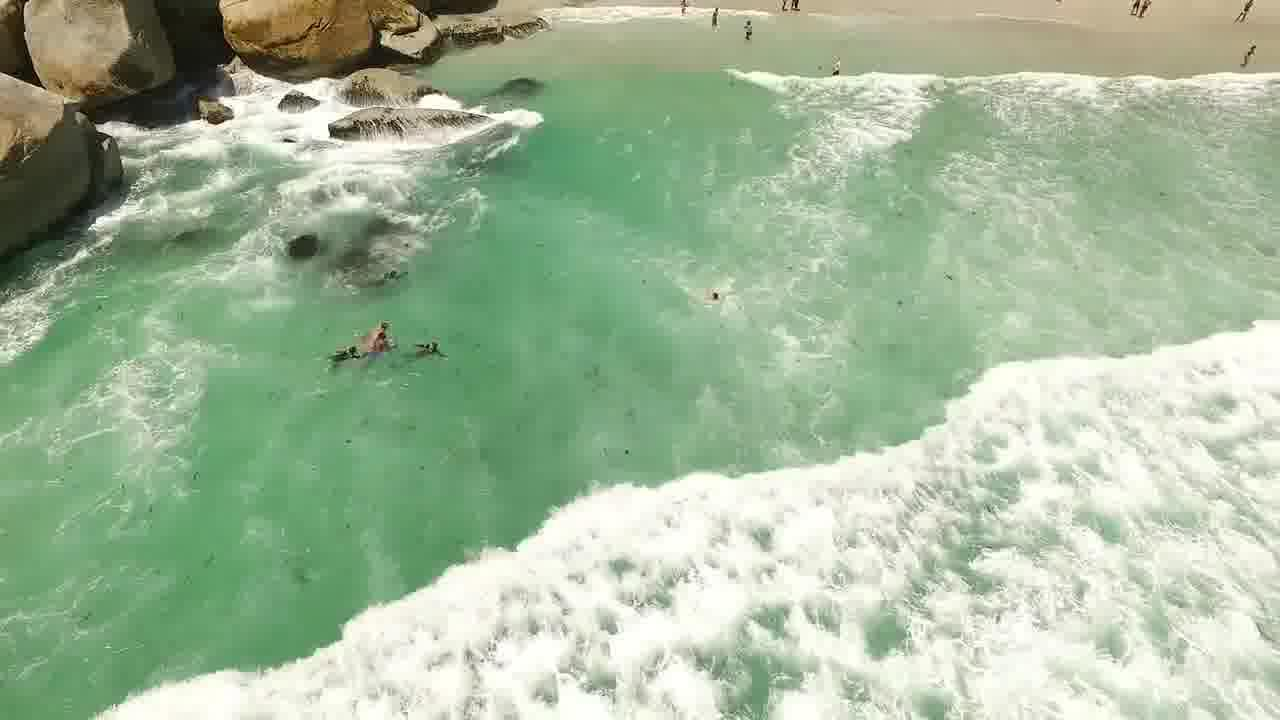human: (356, 314, 394, 358), (821, 47, 861, 87), (413, 326, 452, 364), (1236, 35, 1267, 77), (738, 12, 775, 47), (695, 277, 730, 304), (698, 4, 719, 21)
